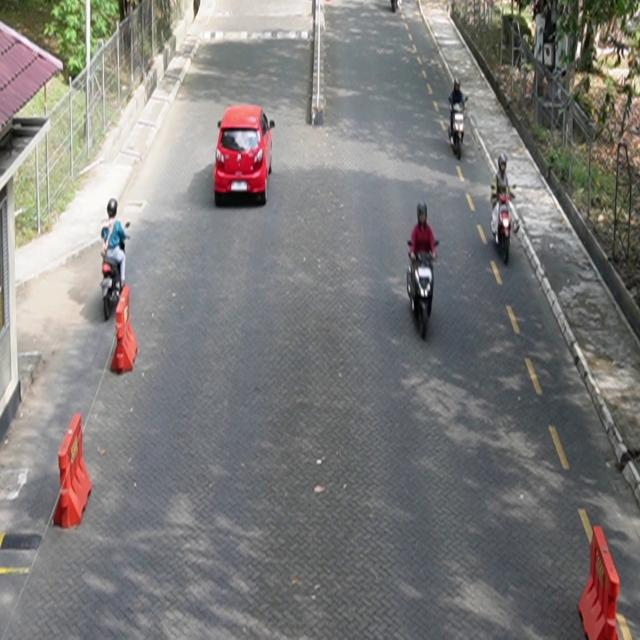car: (215, 105, 276, 207)
